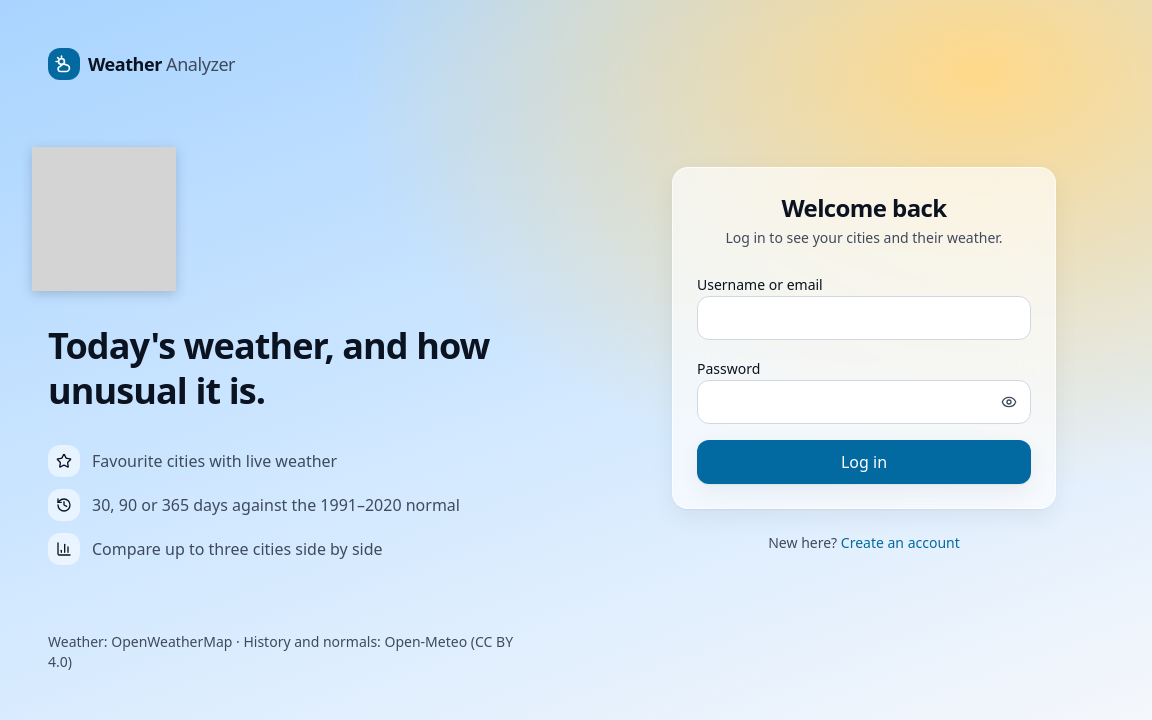
Test: login page › explains empty fields instead of disabling the button
Step 1. Click the button "Log in" → (864, 462), box [697, 440, 1031, 484]
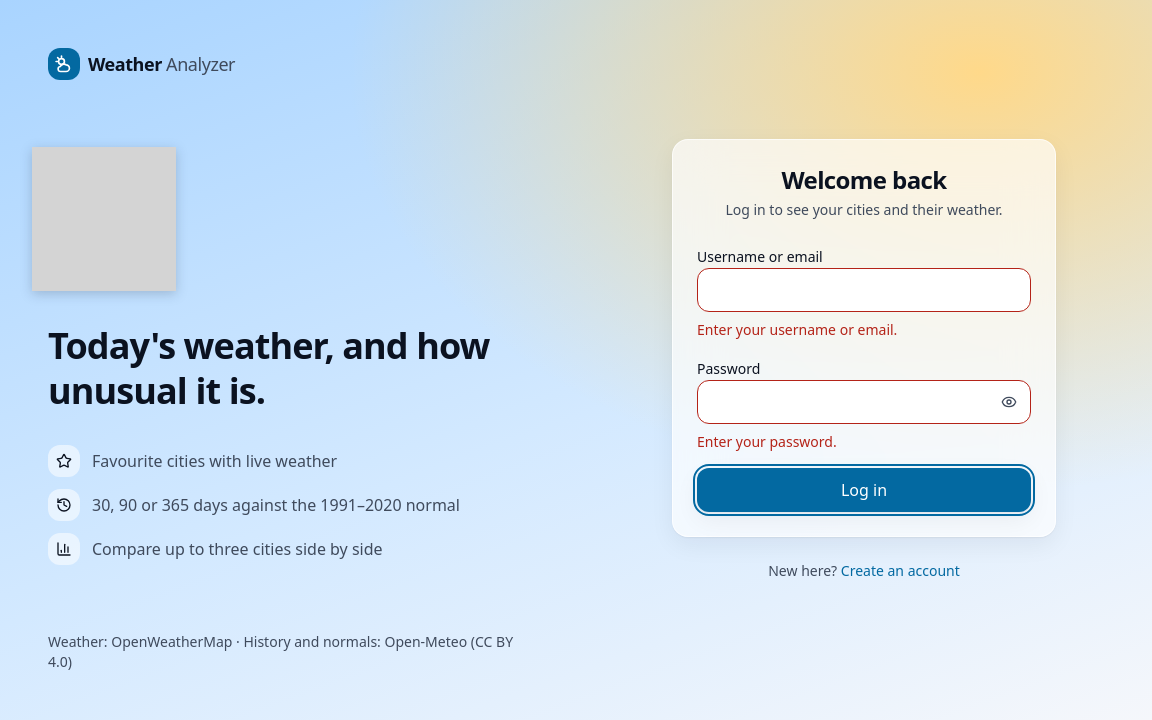
Now the text "Enter your username or email." is shown, box [697, 320, 897, 339]
Now the text "Enter your password." is shown, box [697, 432, 837, 451]
